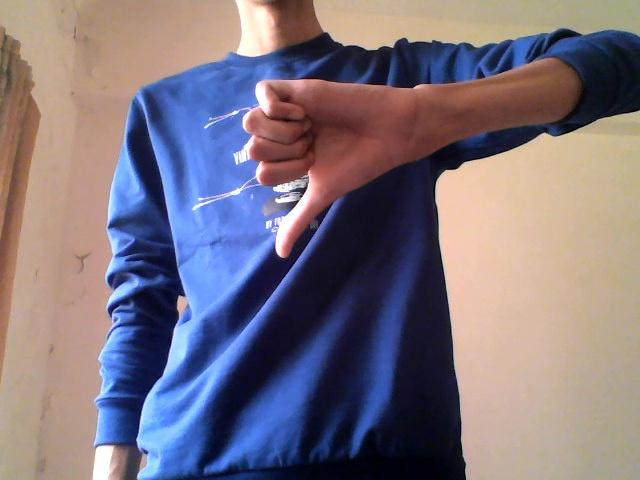thumbs-down: (230, 69, 394, 265)
